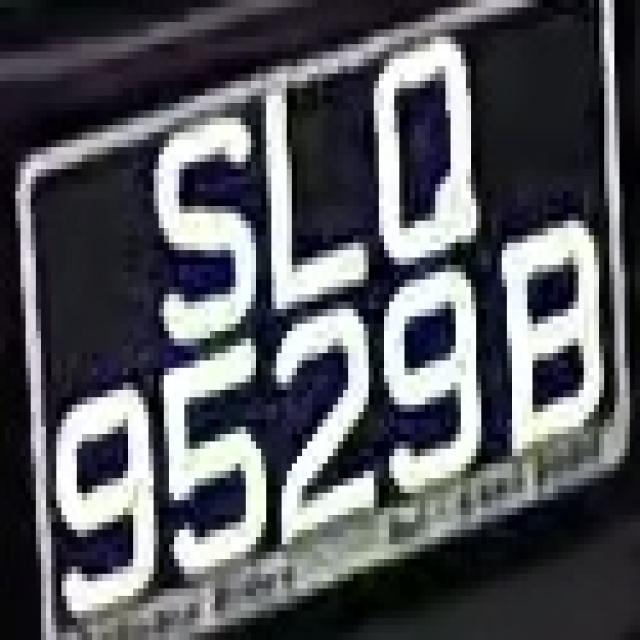2: (266, 294, 379, 552)
5: (154, 346, 266, 566)
9: (46, 360, 169, 618), (379, 235, 476, 500)
B: (497, 206, 609, 463)
L: (246, 59, 374, 309)
Q: (368, 0, 496, 287)
S: (138, 103, 261, 346)
